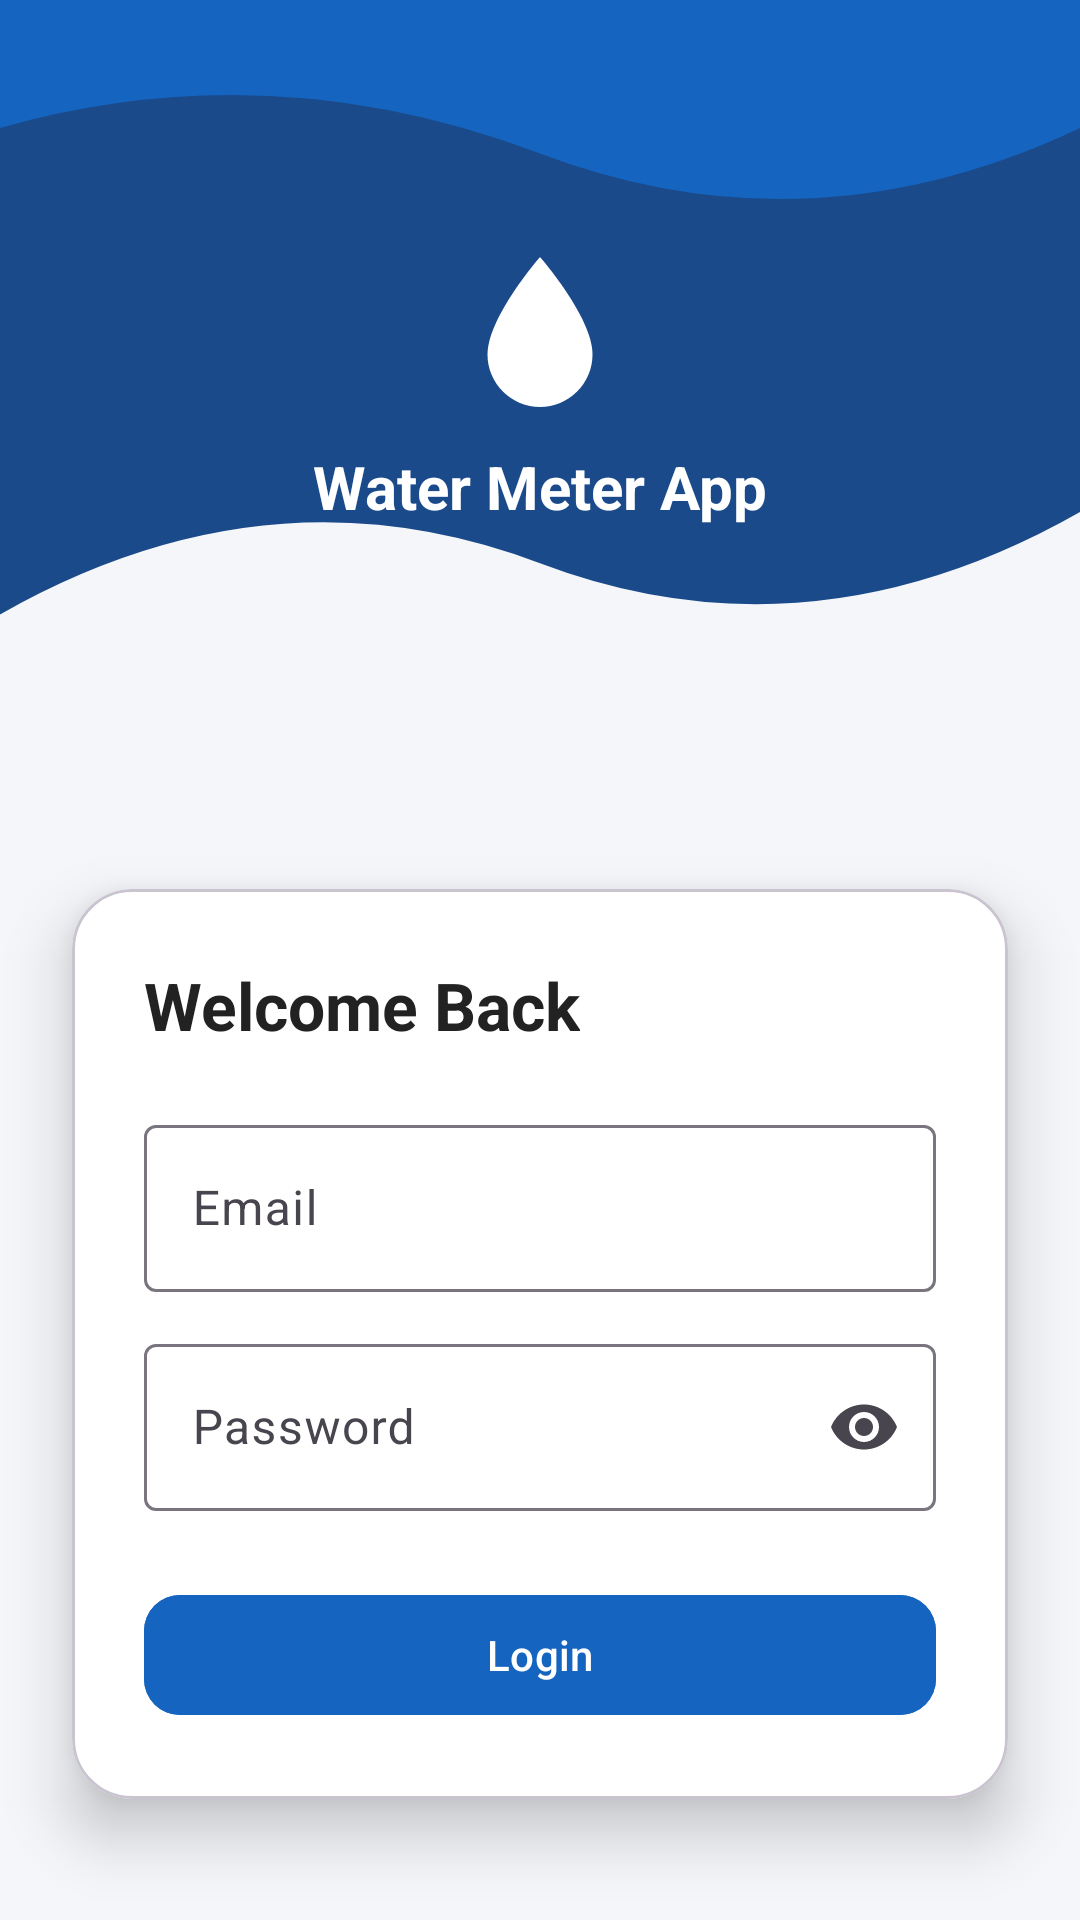

Screen size 1080x1920. Icon name, then its box in pixels as (x1, y1, x2, y2):
water drop: (487, 257, 593, 407)
